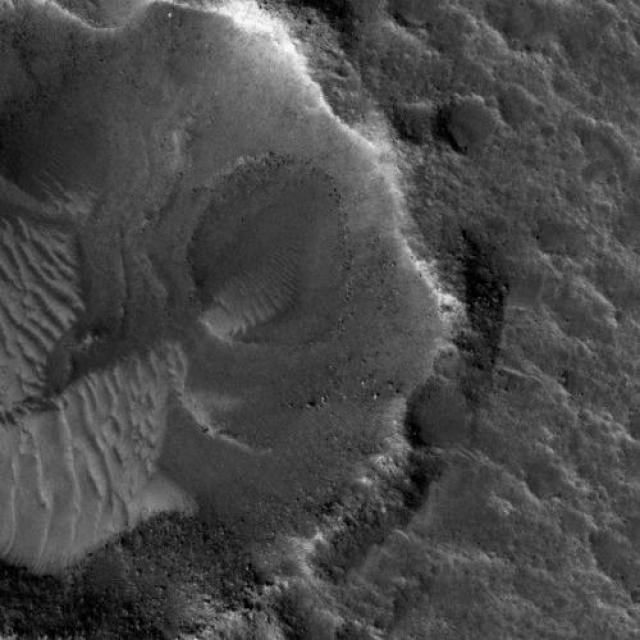crater: (0, 0, 488, 640), (492, 0, 602, 46), (0, 0, 37, 37)
